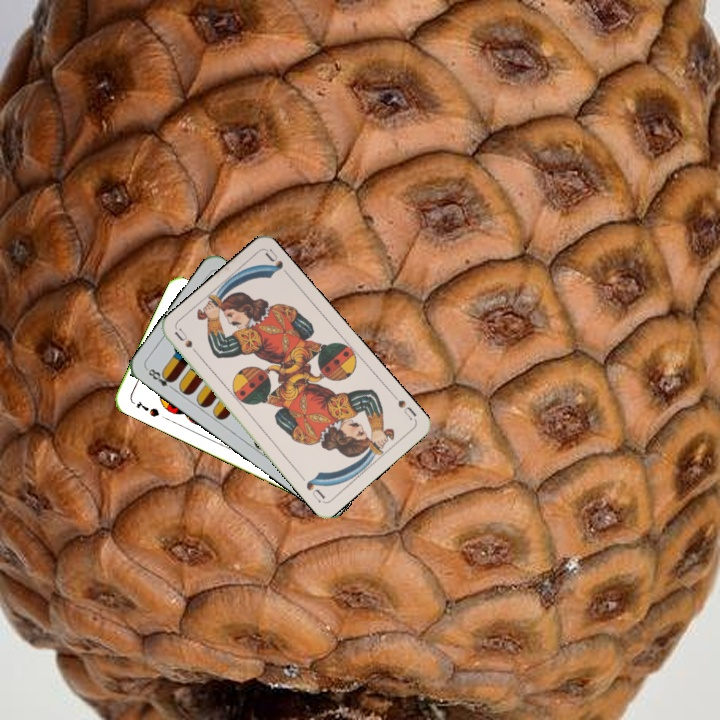E8: (142, 364, 178, 393)
S7: (132, 397, 162, 419)
SU: (170, 324, 203, 360), (393, 396, 419, 423)
